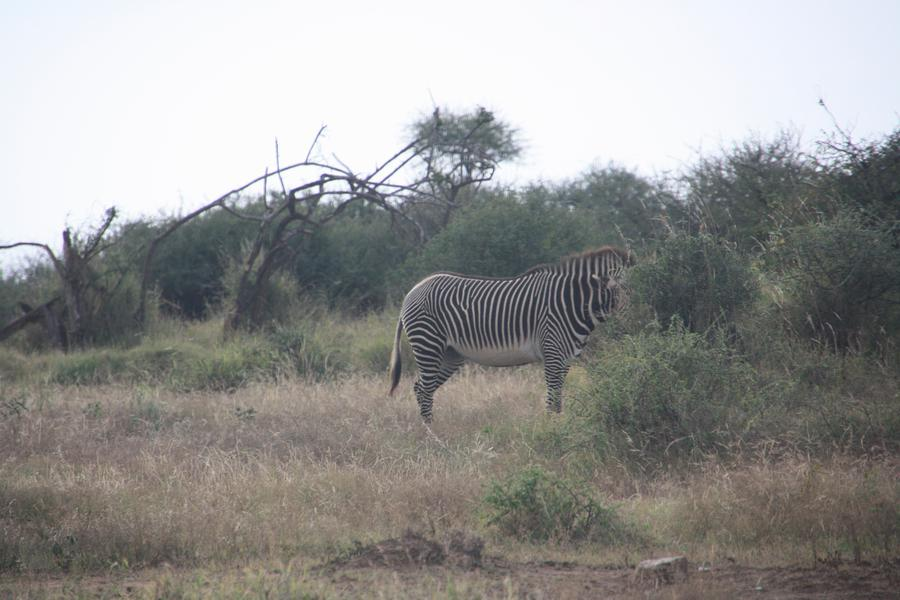zebra_grevys: (402, 257, 571, 362)
